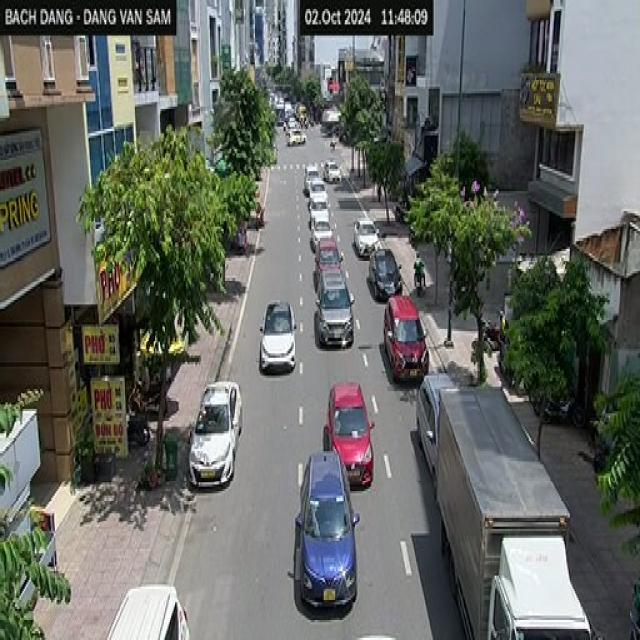car: (296, 452, 356, 618), (326, 377, 378, 498), (190, 371, 242, 491), (412, 374, 470, 476), (102, 580, 200, 640), (381, 297, 432, 379), (262, 300, 295, 378), (318, 273, 353, 340), (369, 248, 403, 301), (353, 216, 380, 260), (313, 231, 338, 273), (306, 215, 336, 248), (303, 158, 322, 190), (324, 160, 343, 187), (308, 193, 331, 214), (286, 129, 307, 148)
motorcycle: (411, 276, 431, 298)
person: (411, 248, 426, 284)
truck: (431, 386, 583, 640)
